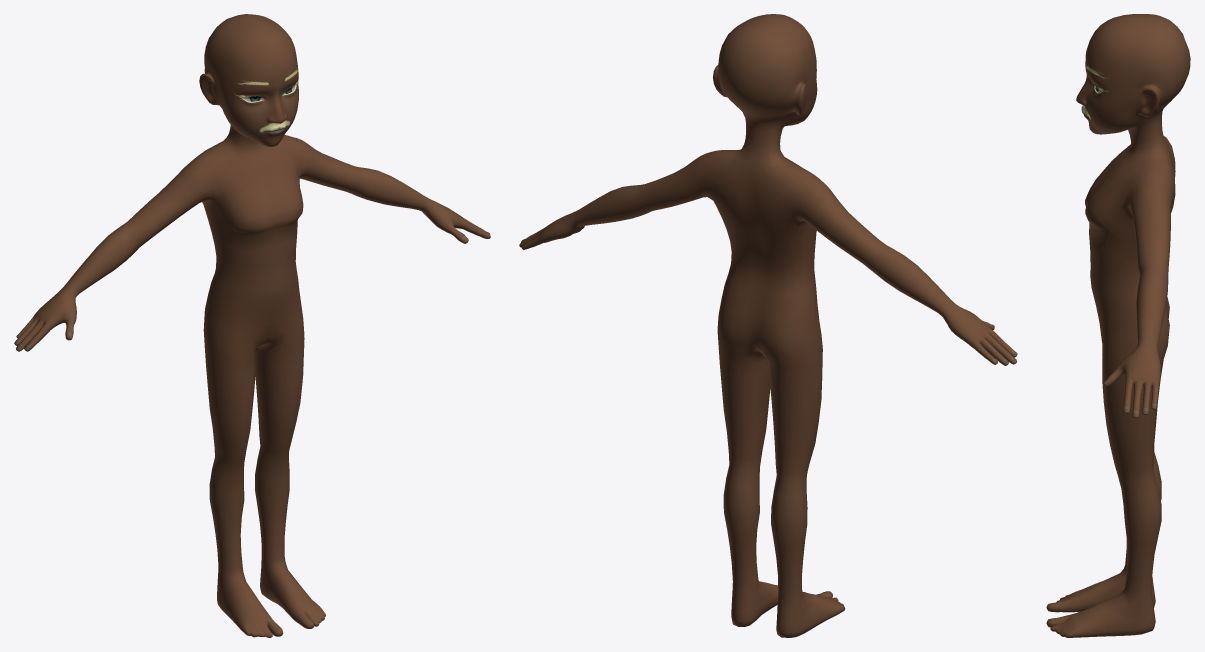
The model's file is frame_0077.glb.
The picture shows the model from 3 angles, left to right: view 1: azimuth 30°, elevation 25°; view 2: azimuth 150°, elevation 25°; view 3: azimuth 270°, elevation 25°; orthographic projection. The views are drawn at different scales.
Parts seen in each view (by area): view 1: frame_0077_head_geo; view 2: frame_0077_head_geo; view 3: frame_0077_head_geo.
Part boxes in pixels (x1=…): frame_0077_head_geo: x1=14, y1=14, x2=490, y2=637; frame_0077_head_geo: x1=519, y1=14, x2=1017, y2=637; frame_0077_head_geo: x1=1046, y1=14, x2=1190, y2=637.
Size of the model in its own units: 1.28 by 1.5 by 0.3253.
Materials: 3 (3 with a texture image).
